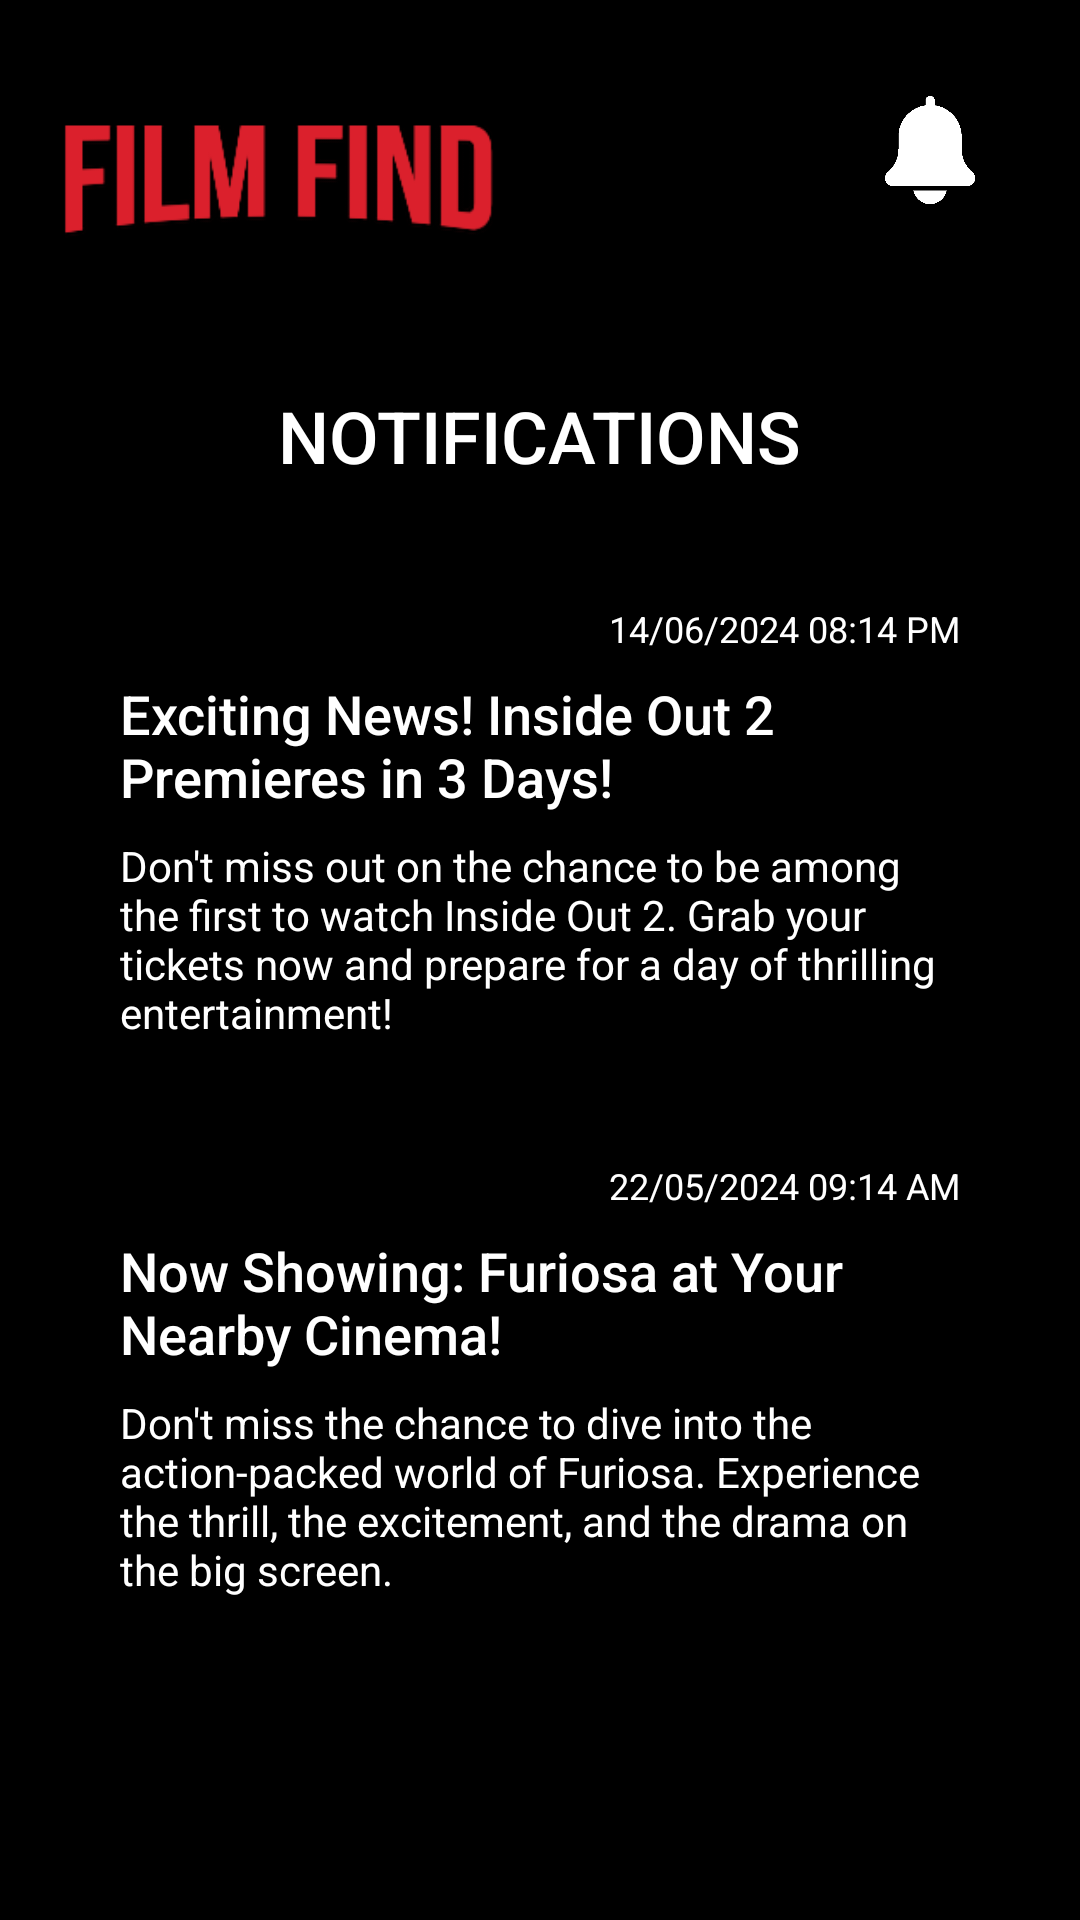

Where icons sit on this 1080 × 1920 app screen, as bbox(x1, y1, x2, y2):
notification: bbox(885, 96, 975, 204)
